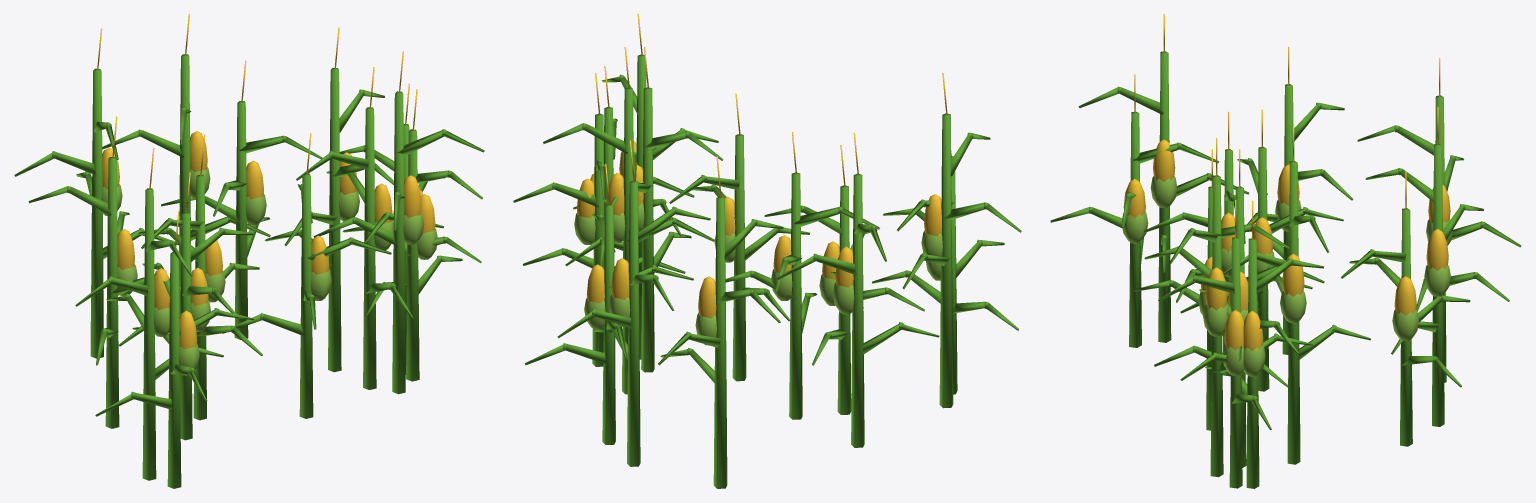
Rendered from resource_maize.fbx.
The picture shows the model from 3 angles, left to right: view 1: azimuth 30°, elevation 25°; view 2: azimuth 150°, elevation 25°; view 3: azimuth 270°, elevation 25°; orthographic projection.
Visible parts, largest first — view 1: resource_maize_cornleaf_00, resource_maize_cob_01, resource_maize_husk_02; view 2: resource_maize_cornleaf_00, resource_maize_cob_01, resource_maize_husk_02; view 3: resource_maize_cornleaf_00, resource_maize_cob_01, resource_maize_husk_02.
Part boxes in pixels (left/top/right/bottom): resource_maize_cornleaf_00: left=14, top=54, right=484, bottom=488; resource_maize_cob_01: left=97, top=14, right=435, bottom=349; resource_maize_husk_02: left=101, top=166, right=437, bottom=375; resource_maize_cornleaf_00: left=513, top=54, right=1021, bottom=488; resource_maize_cob_01: left=577, top=14, right=951, bottom=318; resource_maize_husk_02: left=574, top=203, right=942, bottom=345; resource_maize_cornleaf_00: left=1050, top=51, right=1521, bottom=488; resource_maize_cob_01: left=1123, top=14, right=1450, bottom=351; resource_maize_husk_02: left=1121, top=176, right=1452, bottom=376.
Bounding box in the file's own units: 114 × 83.88 × 105.
